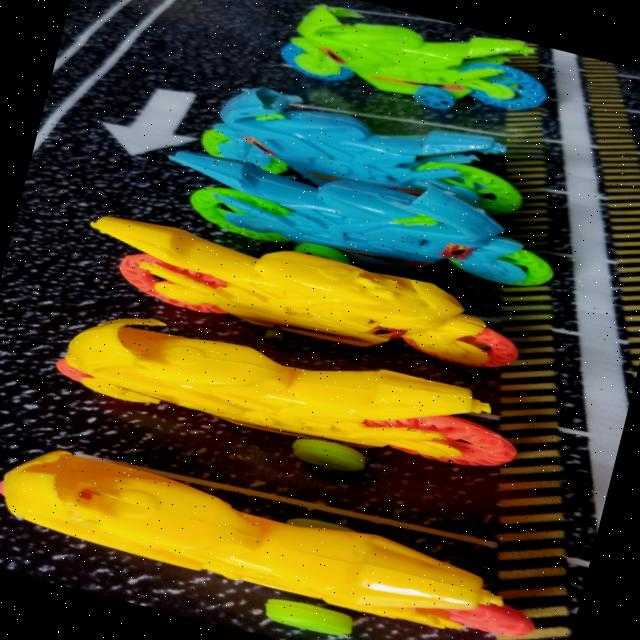occupied: (55, 318, 517, 548), (0, 450, 514, 640), (91, 217, 518, 405), (171, 152, 553, 305), (201, 88, 549, 249), (280, 5, 547, 133)
